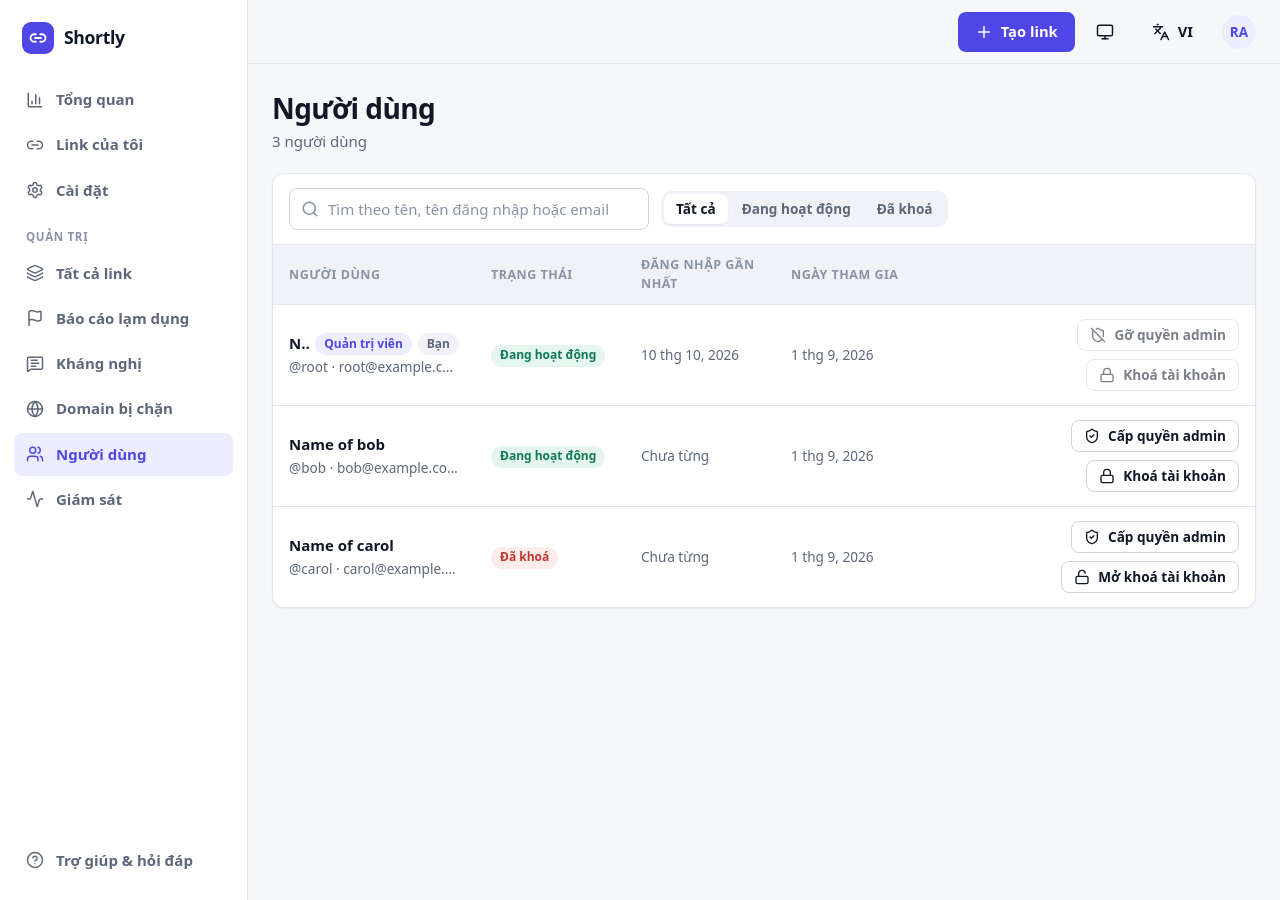
Test: quản trị: người dùng › khoá tài khoản: xác nhận rồi gửi PUT lock và tải lại
The image size is (1280, 900).
Expected: the text "Name of bob" is shown, [289,433,385,457]
Click the button with aria-label "Khoá tài khoản bob" at (1163, 476), box [1086,460,1239,492]
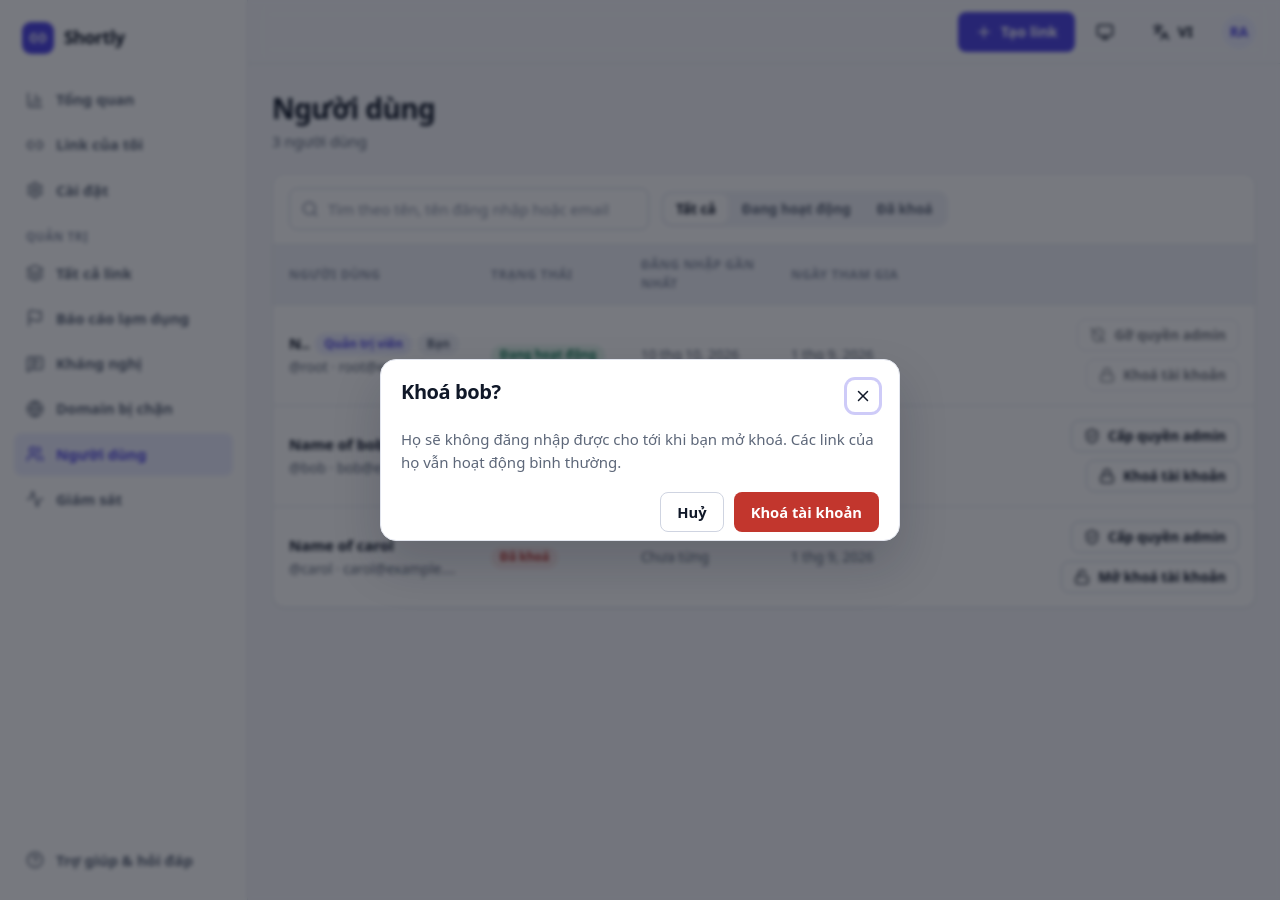
Now the dialog "Khoá bob?" is shown, box [380,359,900,541]
Click the button "Khoá tài khoản" at (806, 512), box [734,492,879,532]
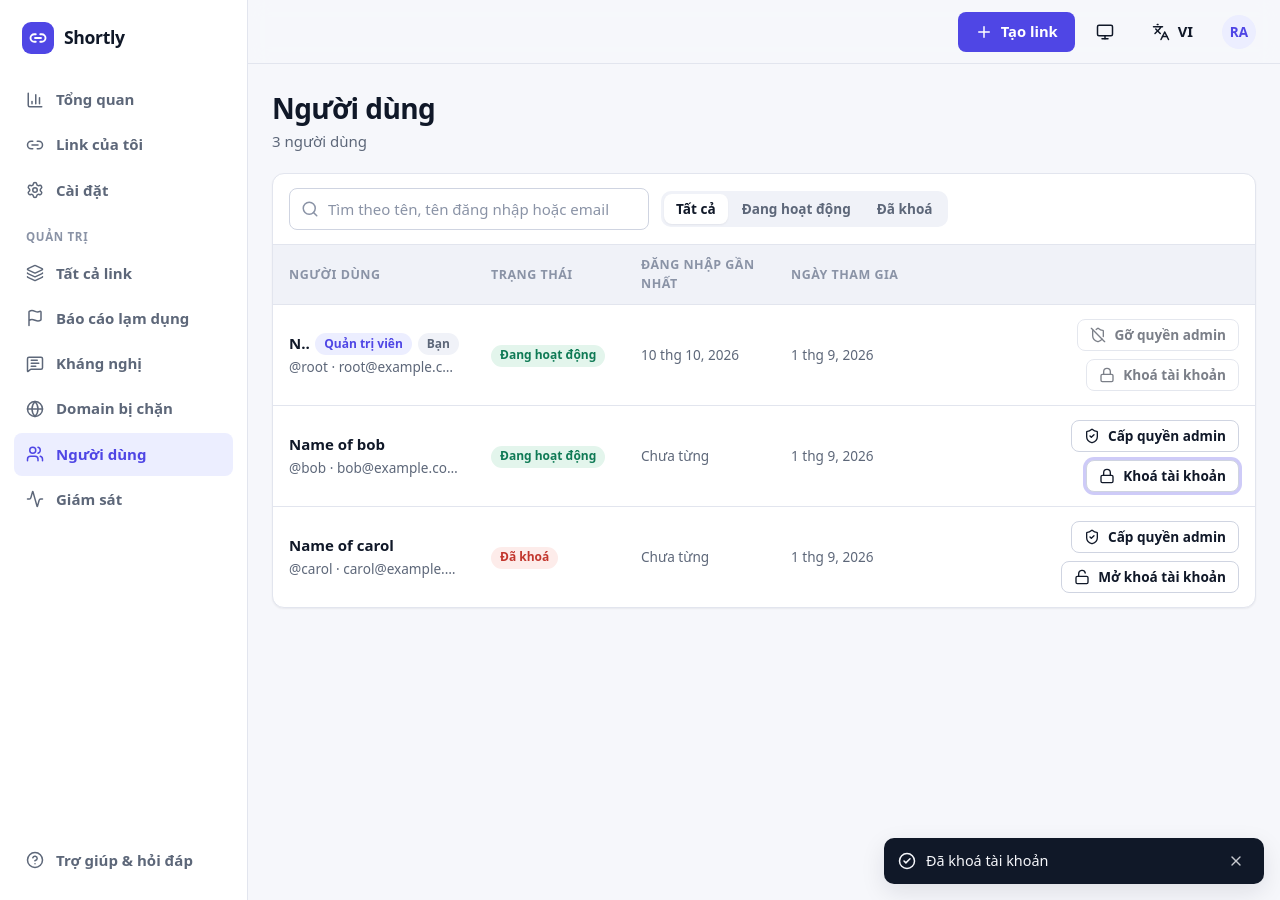
Now the text "Đã khoá tài khoản" is shown, box [926,850,1048,872]
